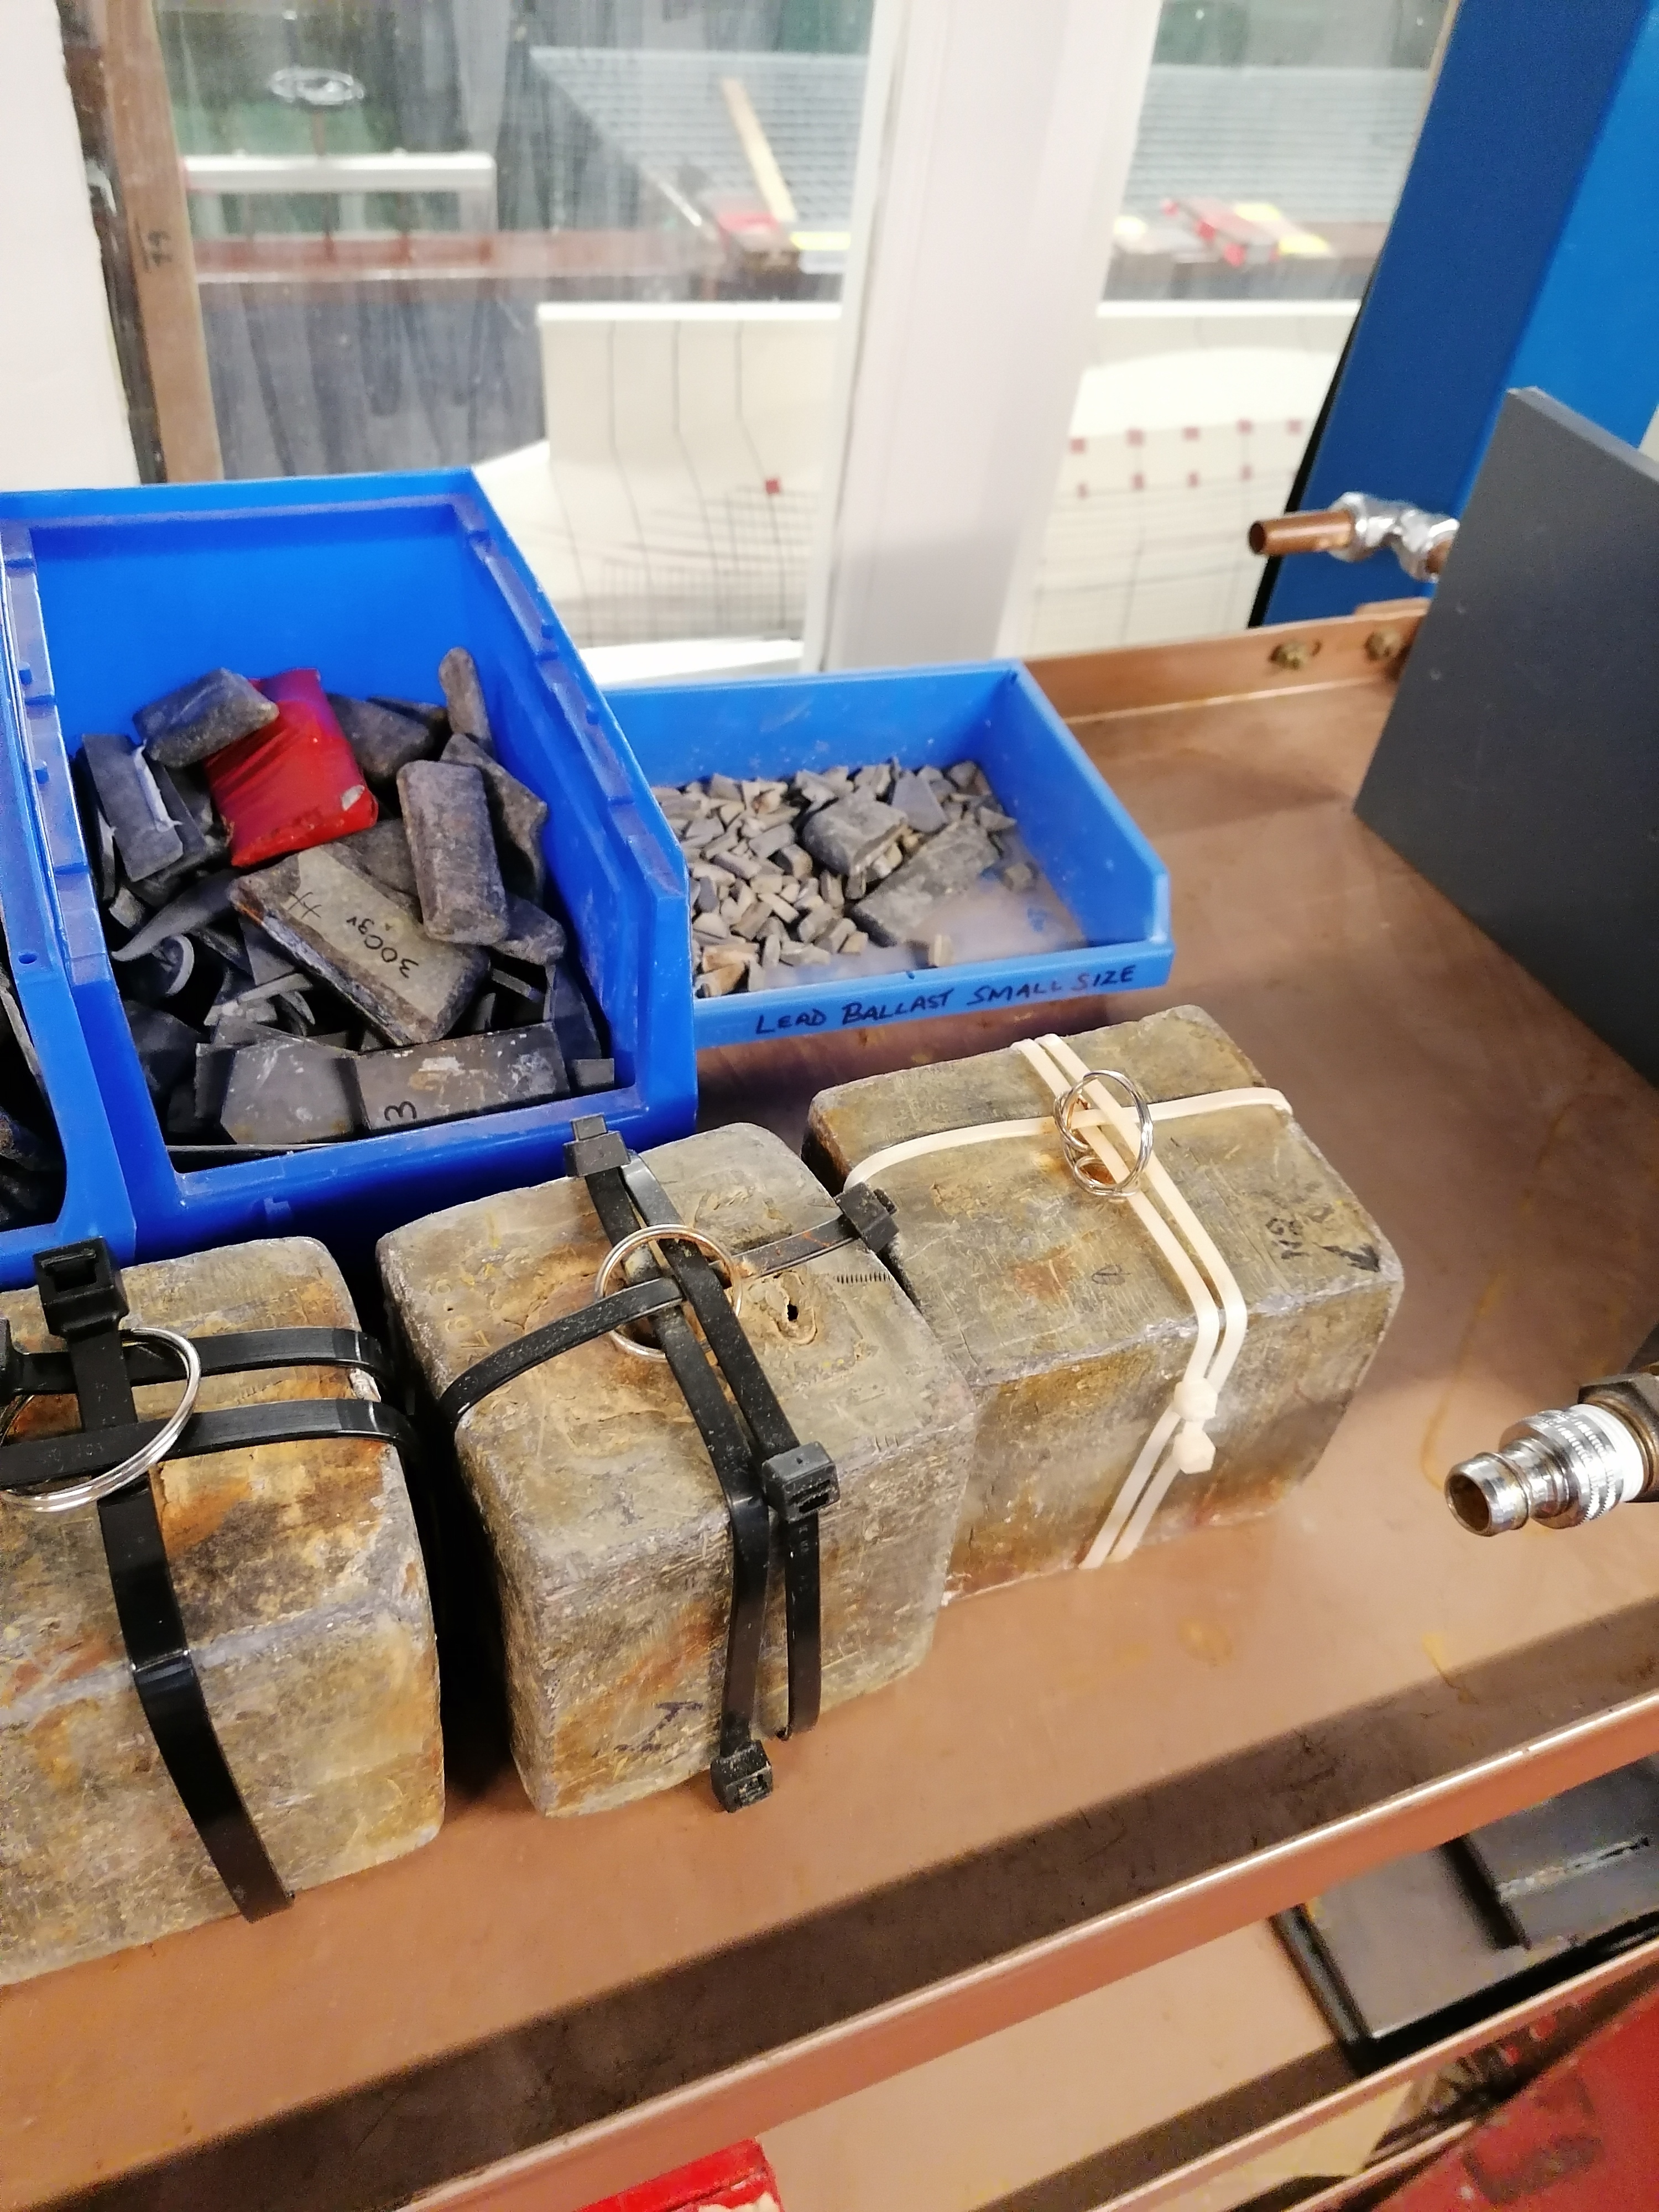lead_block: (366, 1113, 951, 1799), (803, 1000, 1405, 1606), (0, 1247, 450, 1989)
